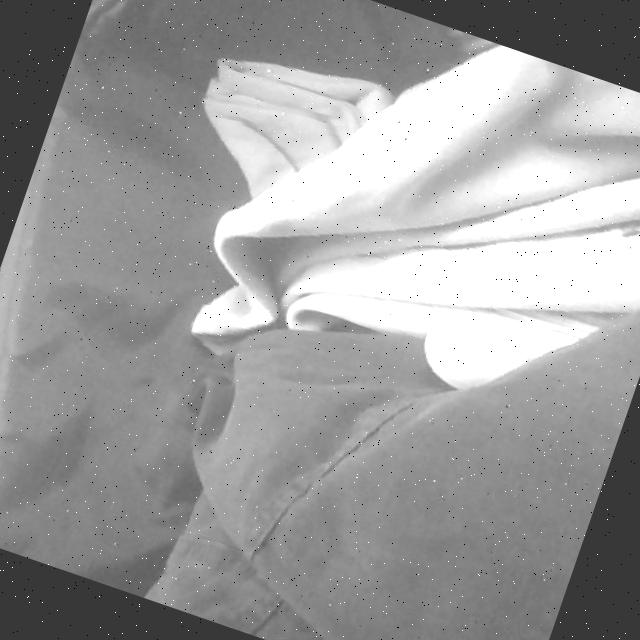ping-pong-ball: (417, 302, 535, 408)
